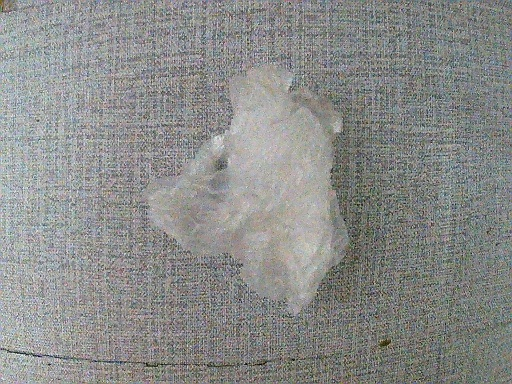plastic: (143, 66, 352, 313)
